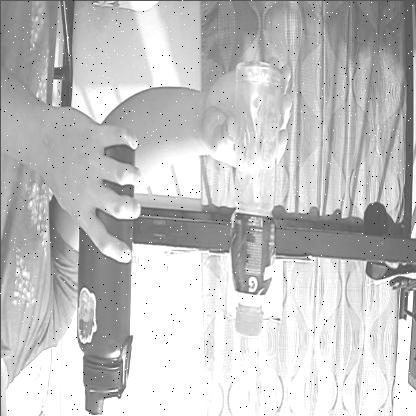Plastic Bottle: (216, 34, 293, 351)
